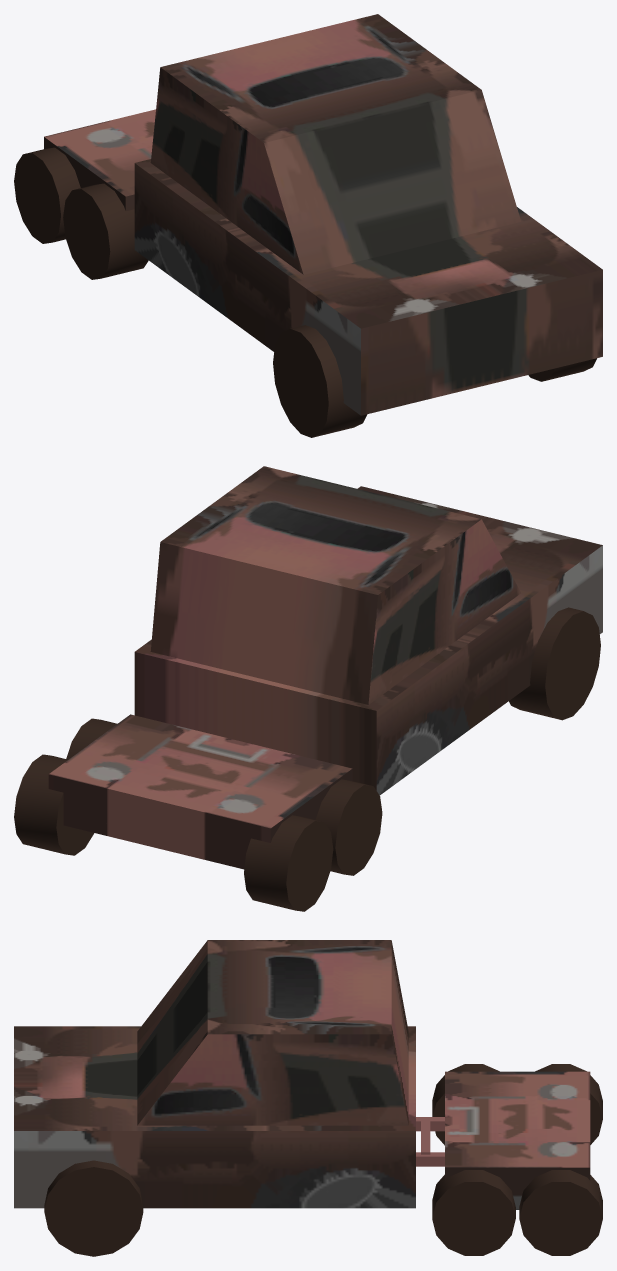
File: Building_AncientRustedTruck.obj
3 renders of one model, top to bottom at view 1: azimuth 30°, elevation 25°; view 2: azimuth 150°, elevation 25°; view 3: azimuth 270°, elevation 25°, orthographic. The views are drawn at different scales.
Visible parts, largest first — view 1: Body; view 2: Body; view 3: Body.
Boxes of the visible parts, bbox=[...] form: Body: bbox=[14, 14, 602, 437]; Body: bbox=[14, 466, 602, 911]; Body: bbox=[14, 940, 602, 1256].
Size of the model in its own units: 1.8 by 1.5 by 3.8.
1 material, 1 textured.
